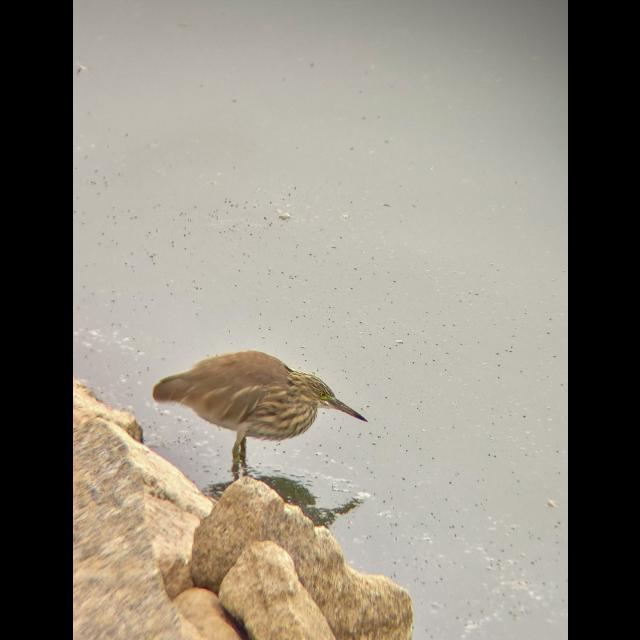heron: (144, 347, 366, 471)
